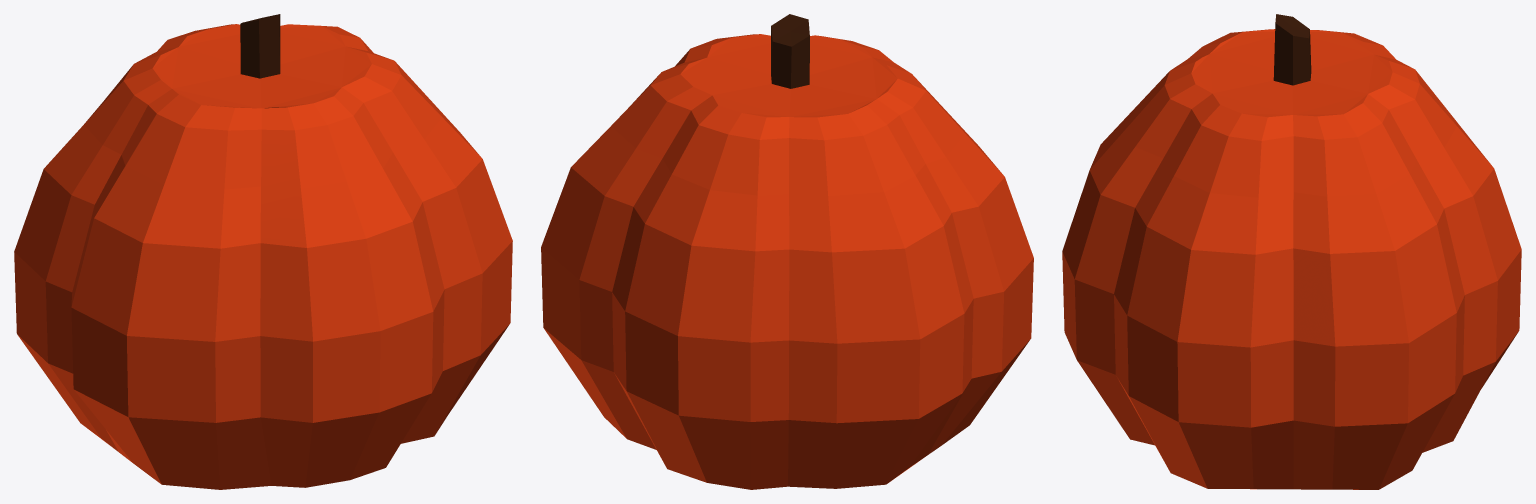
Rendered from Pumpkin.fbx.
3 views of the same model, side by side, from view 1: azimuth 30°, elevation 25°; view 2: azimuth 150°, elevation 25°; view 3: azimuth 270°, elevation 25° (orthographic). The views are drawn at different scales.
Visible parts, largest first — view 1: Cylinder001; view 2: Cylinder001; view 3: Cylinder001.
Boxes of the visible parts, box(x1,y1,x2,y2) form: Cylinder001: box(14, 14, 512, 489); Cylinder001: box(541, 14, 1033, 489); Cylinder001: box(1062, 14, 1521, 489).
Bounding box in the file's own units: 30.43 × 29.03 × 30.07.
